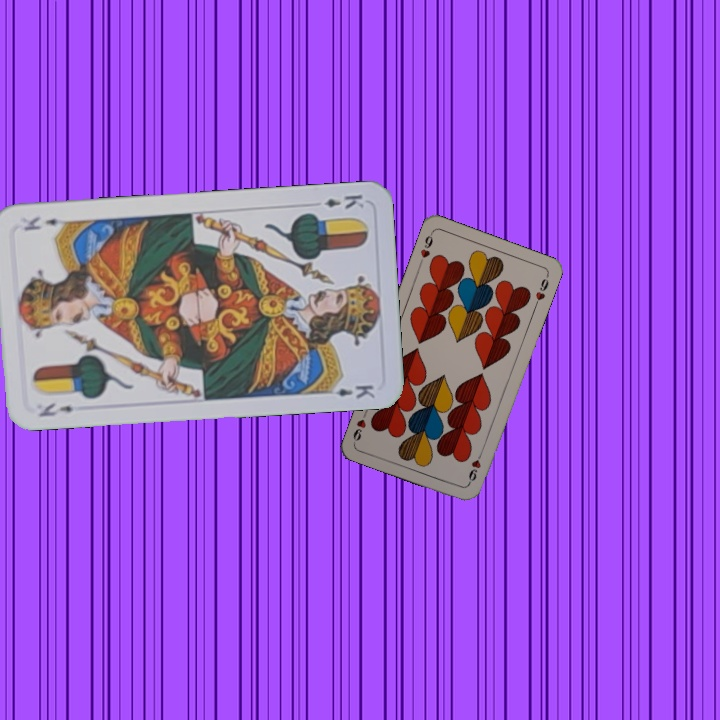EK: (320, 190, 367, 211), (35, 399, 76, 420)
H9: (415, 228, 436, 268), (464, 448, 485, 487)
